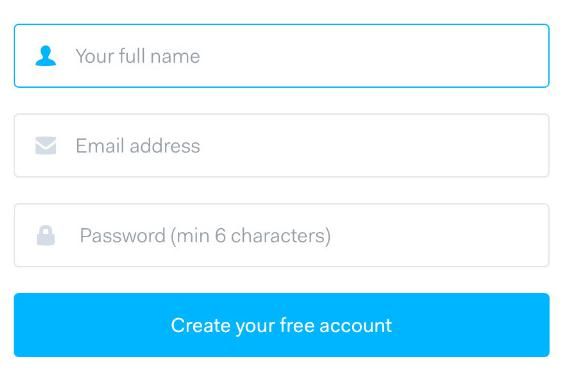button: (12, 292, 552, 358)
field: (13, 22, 550, 90), (13, 113, 551, 179), (13, 202, 551, 268)
